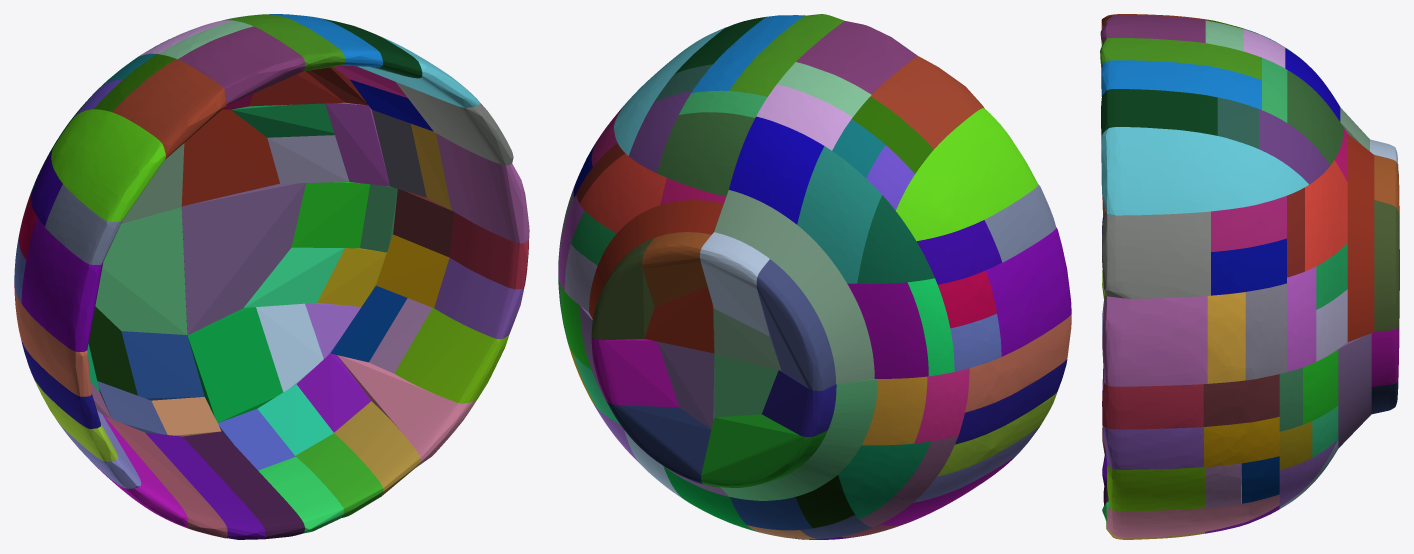
Rendered from coacd_collision.obj.
The picture shows the model from 3 angles, left to right: view 1: azimuth 30°, elevation 25°; view 2: azimuth 150°, elevation 25°; view 3: azimuth 270°, elevation 25°; orthographic projection.
Visible parts, largest first — view 1: geometry_1, geometry_3, geometry_17, geometry_33, geometry_32, geometry_15, geometry_4, geometry_31, geometry_7, geometry_24, geometry_28, geometry_26 (+49 smaller); view 2: geometry_0, geometry_17, geometry_3, geometry_15, geometry_32, geometry_60, geometry_8, geometry_5, geometry_16, geometry_19, geometry_11, geometry_31 (+49 smaller); view 3: geometry_2, geometry_7, geometry_35, geometry_15, geometry_29, geometry_25, geometry_58, geometry_4, geometry_24, geometry_46, geometry_45, geometry_30 (+33 smaller).
Part boxes in pixels (left/top/right/bottom): geometry_1: left=181, top=183, right=305, bottom=335; geometry_3: left=95, top=207, right=187, bottom=334; geometry_17: left=51, top=109, right=165, bottom=221; geometry_33: left=187, top=307, right=283, bottom=422; geometry_32: left=21, top=217, right=103, bottom=351; geometry_15: left=181, top=109, right=279, bottom=206; geometry_4: left=394, top=308, right=508, bottom=403; geometry_31: left=112, top=59, right=226, bottom=159; geometry_7: left=436, top=133, right=529, bottom=243; geometry_24: left=337, top=355, right=476, bottom=466; geometry_28: left=178, top=26, right=305, bottom=104; geometry_26: left=183, top=431, right=304, bottom=539; geometry_0: left=714, top=190, right=874, bottom=384; geometry_17: left=896, top=108, right=1037, bottom=241; geometry_3: left=714, top=354, right=877, bottom=500; geometry_15: left=589, top=200, right=723, bottom=353; geometry_32: left=986, top=227, right=1071, bottom=356; geometry_60: left=797, top=146, right=881, bottom=283; geometry_8: left=701, top=414, right=827, bottom=487; geometry_5: left=729, top=116, right=824, bottom=224; geometry_16: left=756, top=259, right=835, bottom=390; geometry_19: left=657, top=112, right=754, bottom=196; geometry_11: left=847, top=282, right=928, bottom=378; geometry_31: left=870, top=56, right=984, bottom=148; geometry_2: left=1101, top=127, right=1308, bottom=215; geometry_7: left=1102, top=295, right=1207, bottom=386; geometry_35: left=1102, top=211, right=1210, bottom=298; geometry_15: left=1347, top=134, right=1374, bottom=341; geometry_29: left=1101, top=60, right=1261, bottom=109; geometry_25: left=1101, top=89, right=1217, bottom=135; geometry_58: left=1102, top=383, right=1203, bottom=429; geometry_4: left=1107, top=465, right=1205, bottom=511; geometry_24: left=1107, top=485, right=1279, bottom=538; geometry_46: left=1103, top=426, right=1203, bottom=469; geometry_45: left=1245, top=283, right=1286, bottom=380; geometry_30: left=1100, top=37, right=1261, bottom=80.
Bounding box in the file's own units: 117 × 117 × 66.65.
